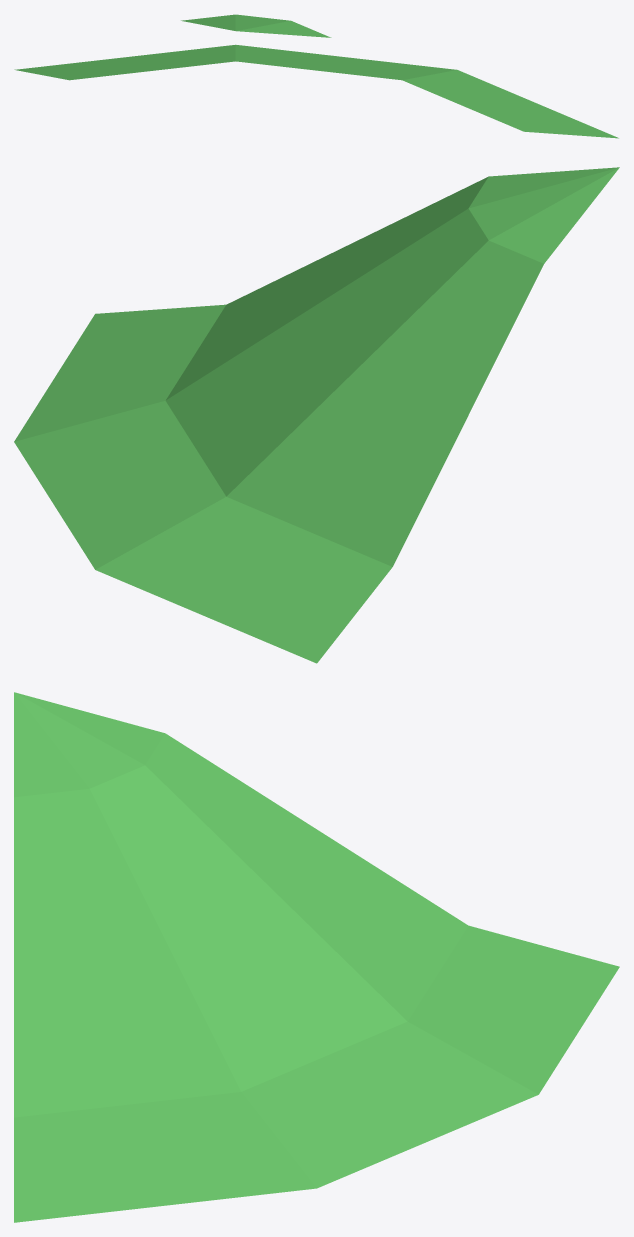
File: Hilly_Terrain_Hill_Corner_Outer_2x2.glb
The picture shows the model from 3 angles, top to bottom: view 1: azimuth 30°, elevation 25°; view 2: azimuth 150°, elevation 25°; view 3: azimuth 270°, elevation 25°; orthographic projection. The views are drawn at different scales.
Visible parts, largest first — view 1: Hilly_Terrain_Hill_Corner_Outer_2x2; view 2: Hilly_Terrain_Hill_Corner_Outer_2x2; view 3: Hilly_Terrain_Hill_Corner_Outer_2x2.
Part boxes in pixels (box(x1,y1,x2,y2)): Hilly_Terrain_Hill_Corner_Outer_2x2: box(14, 14, 618, 138); Hilly_Terrain_Hill_Corner_Outer_2x2: box(14, 167, 619, 663); Hilly_Terrain_Hill_Corner_Outer_2x2: box(14, 692, 619, 1222).
Size of the model in its own units: 2 by 1 by 2.
